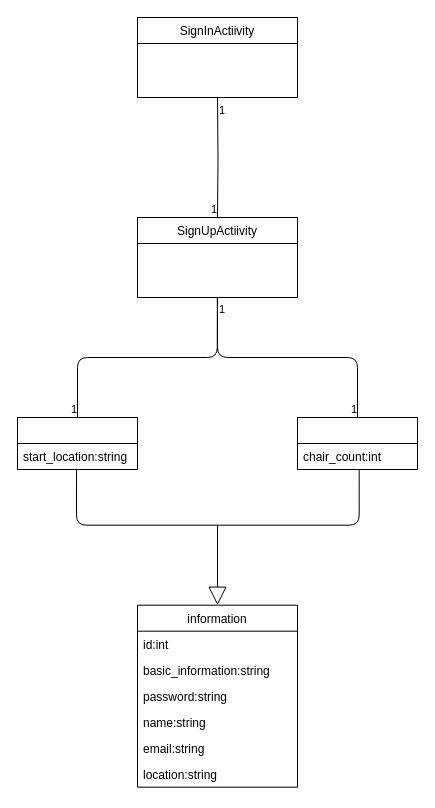
Some shapes in this 435 by 808 pixel diagram are drawn without their labels. Here are the shapes that lost their labels. From the top down, the box of each, then its label:
(16, 416, 138, 470): Customer
(296, 416, 418, 470): Driver
